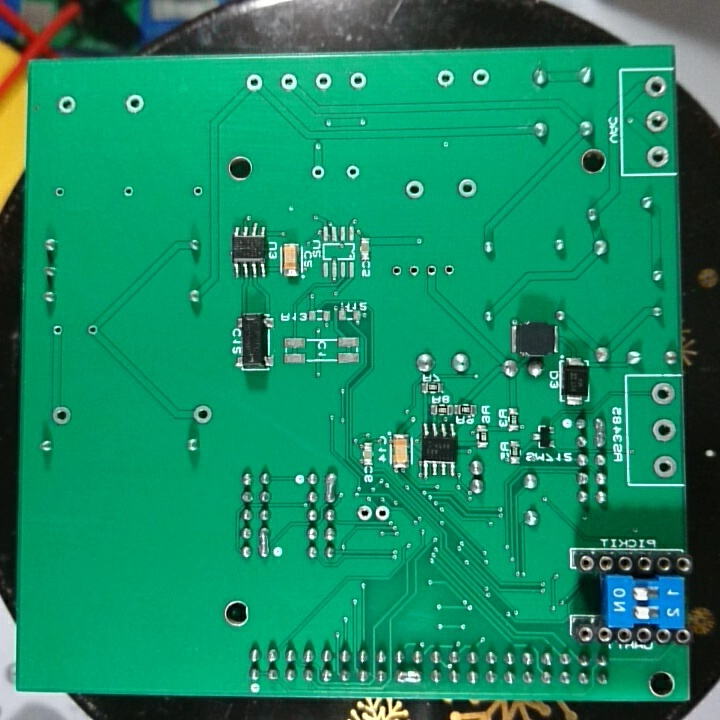F: (189, 400, 218, 429), (650, 453, 679, 482), (649, 380, 678, 406), (650, 416, 676, 444), (644, 142, 670, 169), (48, 401, 74, 427), (644, 109, 671, 134), (643, 74, 667, 100), (122, 91, 147, 115), (313, 69, 336, 95), (403, 177, 426, 200), (347, 69, 370, 92), (54, 92, 76, 116), (470, 66, 492, 89), (456, 176, 479, 198), (374, 502, 394, 527), (244, 72, 266, 93), (436, 68, 456, 89), (279, 72, 299, 93), (343, 161, 362, 183), (355, 503, 373, 523), (307, 163, 326, 181), (121, 182, 138, 200), (50, 320, 66, 339), (387, 263, 404, 280), (422, 263, 439, 279), (441, 262, 456, 279), (404, 263, 421, 277), (53, 183, 66, 201), (84, 323, 99, 338), (192, 183, 205, 200)
P: (591, 416, 610, 450), (256, 524, 273, 560), (323, 470, 339, 506), (393, 668, 425, 686)
